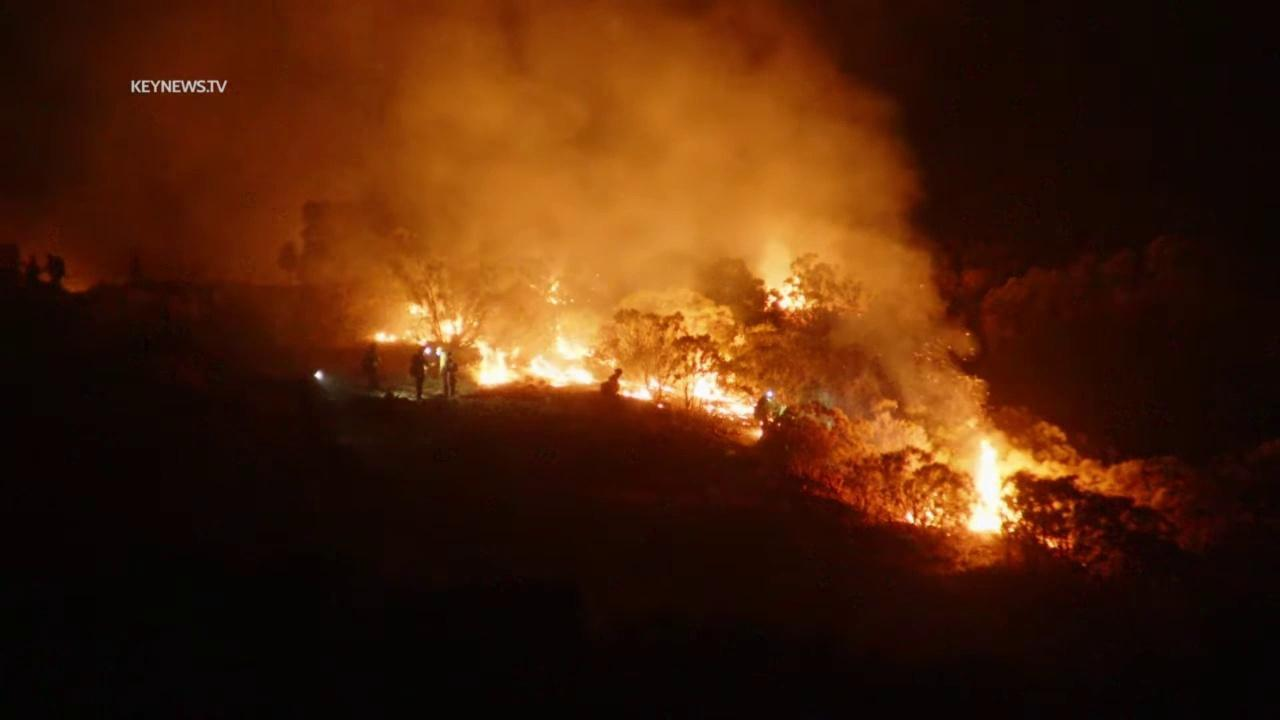fire: (600, 348, 774, 441), (957, 437, 1027, 539), (524, 320, 600, 389), (470, 335, 526, 390), (405, 313, 468, 349), (763, 272, 809, 316), (904, 489, 951, 530), (543, 280, 571, 307), (370, 325, 401, 343), (1035, 532, 1060, 551), (408, 303, 434, 316)
smoke: (0, 0, 1015, 465)
